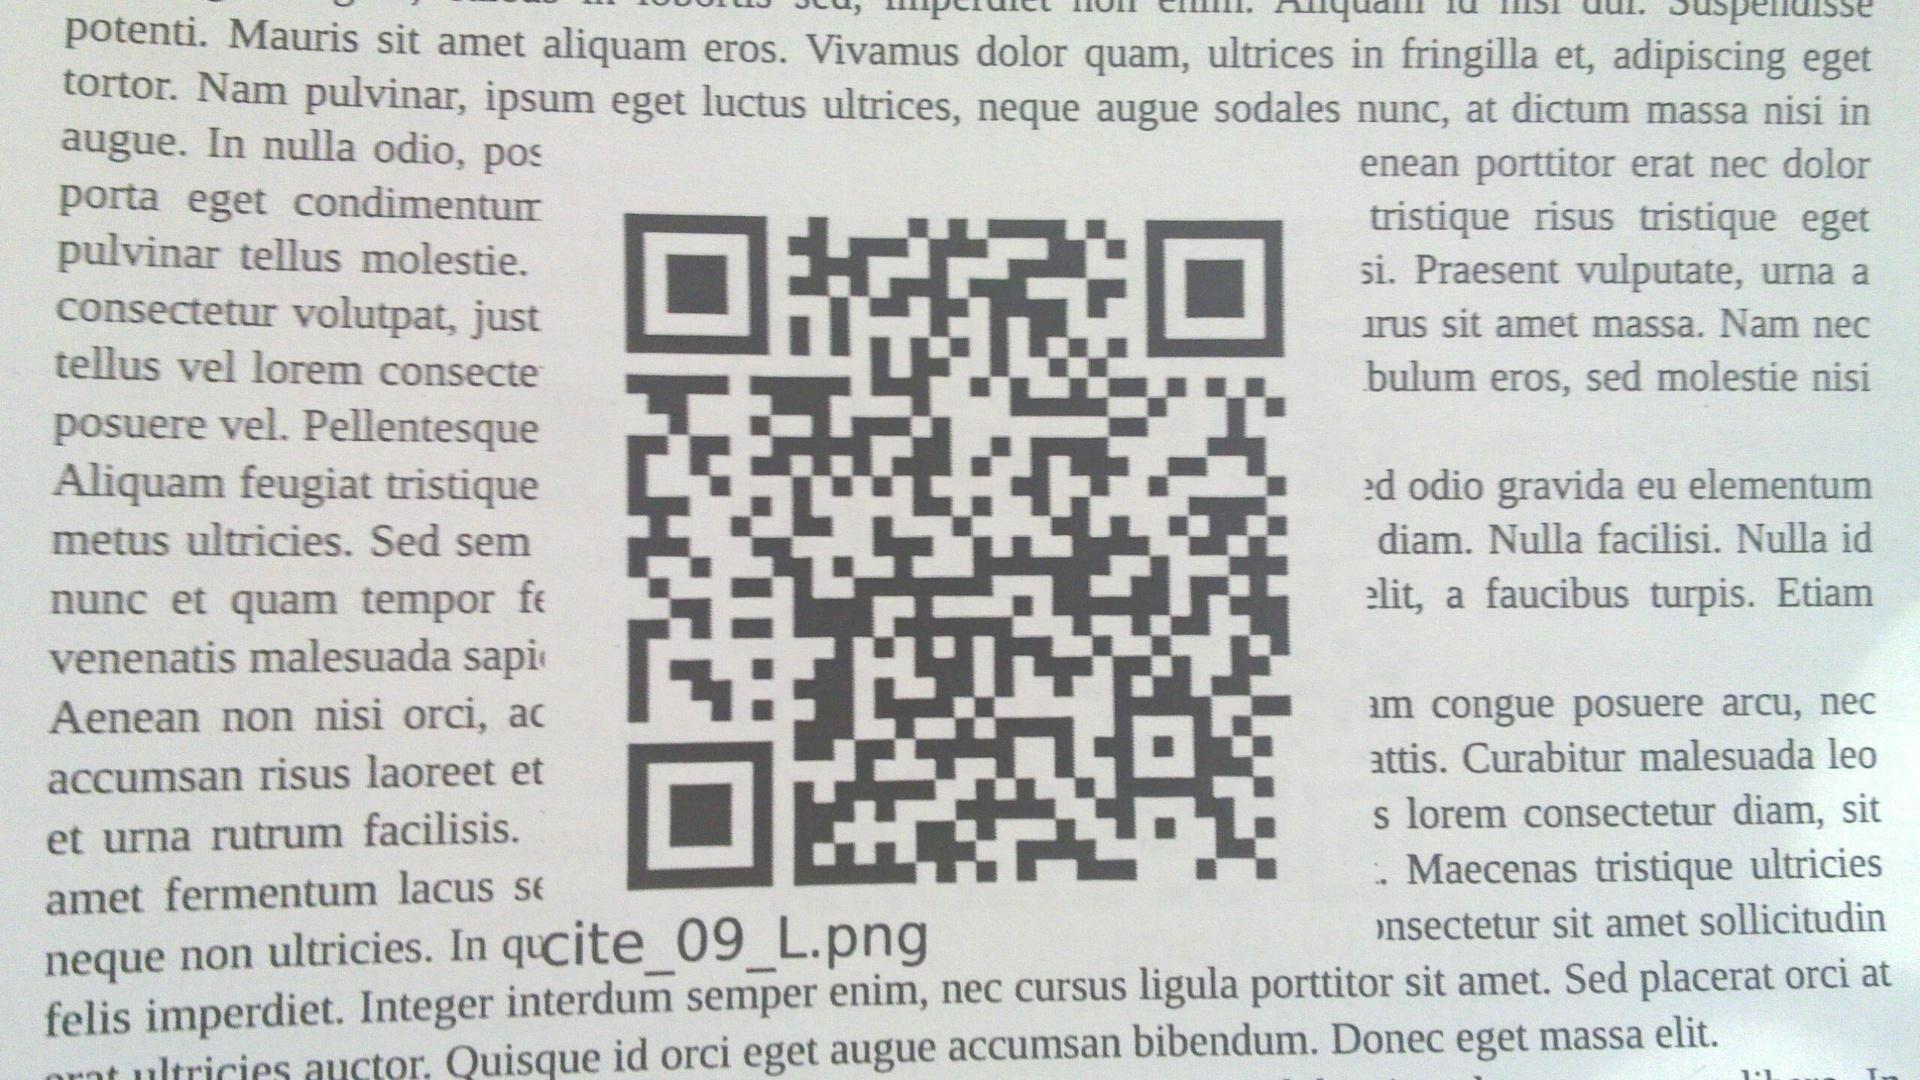Finder pattern: (620, 737, 781, 894), (616, 204, 775, 361), (1137, 212, 1288, 364)
